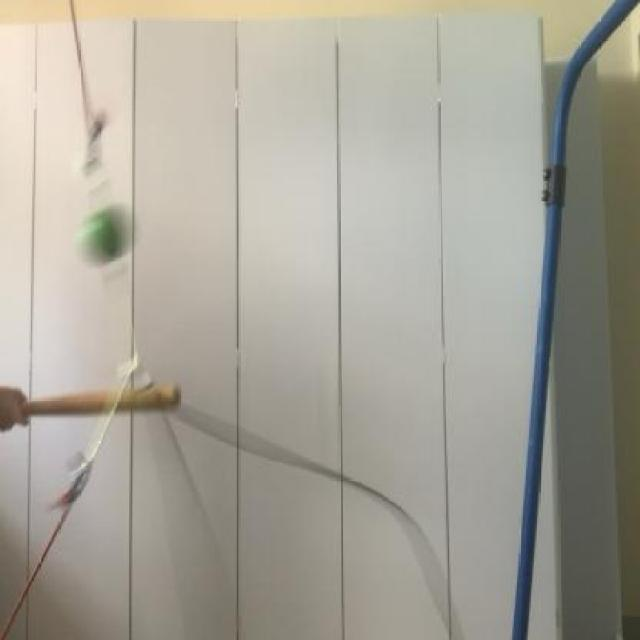baseball: (71, 190, 135, 267)
